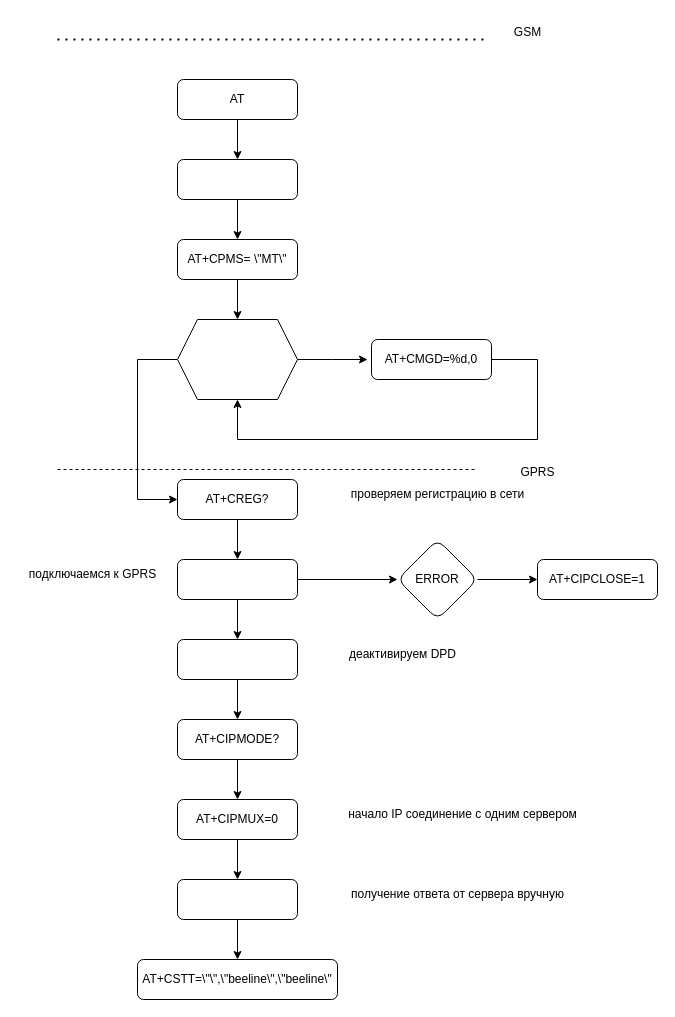
This 675x1017 diagram has some shape labels left out. Each missing label, with the centre of its shape:
AT+CGATT=1: (x=237, y=579)
AT+CIPRXGET=1: (x=237, y=899)
AT+CIPSHUT: (x=237, y=659)
AT+CPMS= \"ME\": (x=237, y=179)
i,1,25: (x=237, y=359)
